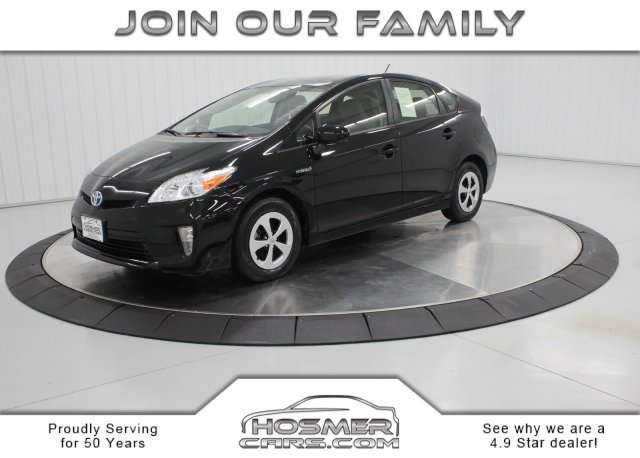Toyota Prius: (69, 70, 498, 285)
